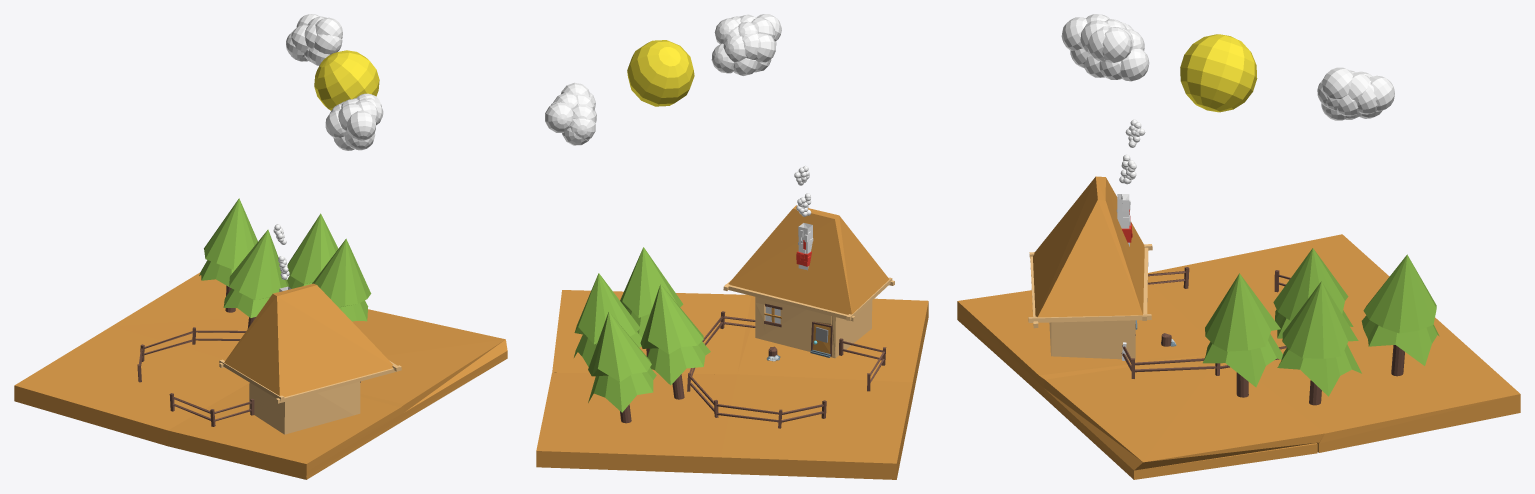
The model's file is forest_hut.glb.
3 renders of one model, left to right at view 1: azimuth 30°, elevation 25°; view 2: azimuth 150°, elevation 25°; view 3: azimuth 270°, elevation 25°, orthographic. The views are drawn at different scales.
Visible parts, largest first — view 1: group1311499394, group337105923, group1362099818, group1542410157, group729594246, group1230798677, group785792611, group1000935264, group2146685707, group78030443, group1906826881, group1793525816; view 2: group1311499394, group337105923, group1542410157, group1362099818, group785792611, group729594246, group1000935264, group1230798677, group1793525816, group78030443, group413528325, group234917158 (+5 smaller); view 3: group1311499394, group337105923, group1542410157, group785792611, group1230798677, group1000935264, group1362099818, group729594246, group1196833605, group1362751408, group1793525816, group645048664 (+5 smaller).
Part boxes in pixels (left/top/right/bottom): group1311499394: left=14, top=272, right=507, bottom=479; group337105923: left=224, top=283, right=392, bottom=396; group1362099818: left=249, top=381, right=360, bottom=434; group1542410157: left=314, top=50, right=379, bottom=110; group729594246: left=229, top=229, right=288, bottom=300; group1230798677: left=312, top=238, right=371, bottom=307; group785792611: left=204, top=198, right=257, bottom=269; group1000935264: left=287, top=213, right=338, bottom=284; group2146685707: left=346, top=110, right=375, bottom=140; group78030443: left=223, top=288, right=269, bottom=317; group1906826881: left=276, top=365, right=401, bottom=403; group1793525816: left=199, top=260, right=235, bottom=287; group1311499394: left=536, top=290, right=928, bottom=479; group337105923: left=728, top=205, right=889, bottom=314; group1542410157: left=627, top=40, right=694, bottom=106; group1362099818: left=755, top=297, right=872, bottom=358; group785792611: left=588, top=311, right=651, bottom=381; group729594246: left=640, top=284, right=703, bottom=354; group1000935264: left=574, top=273, right=640, bottom=344; group1230798677: left=620, top=247, right=683, bottom=317; group1793525816: left=588, top=367, right=656, bottom=412; group78030443: left=647, top=341, right=710, bottom=385; group413528325: left=725, top=284, right=855, bottom=321; group234917158: left=545, top=102, right=573, bottom=132; group1311499394: left=957, top=234, right=1520, bottom=479; group337105923: left=1033, top=176, right=1144, bottom=317; group1542410157: left=1180, top=34, right=1257, bottom=112; group785792611: left=1363, top=254, right=1436, bottom=333; group1230798677: left=1205, top=273, right=1280, bottom=351; group1000935264: left=1282, top=281, right=1358, bottom=358; group1362099818: left=1049, top=320, right=1135, bottom=359; group729594246: left=1273, top=248, right=1348, bottom=320; group1196833605: left=1277, top=344, right=1361, bottom=396; group1362751408: left=1203, top=334, right=1282, bottom=387; group1793525816: left=1361, top=315, right=1439, bottom=365; group645048664: left=1102, top=27, right=1131, bottom=62.
Bounding box in the file's own units: 8.31 × 6.18 × 8.34.
